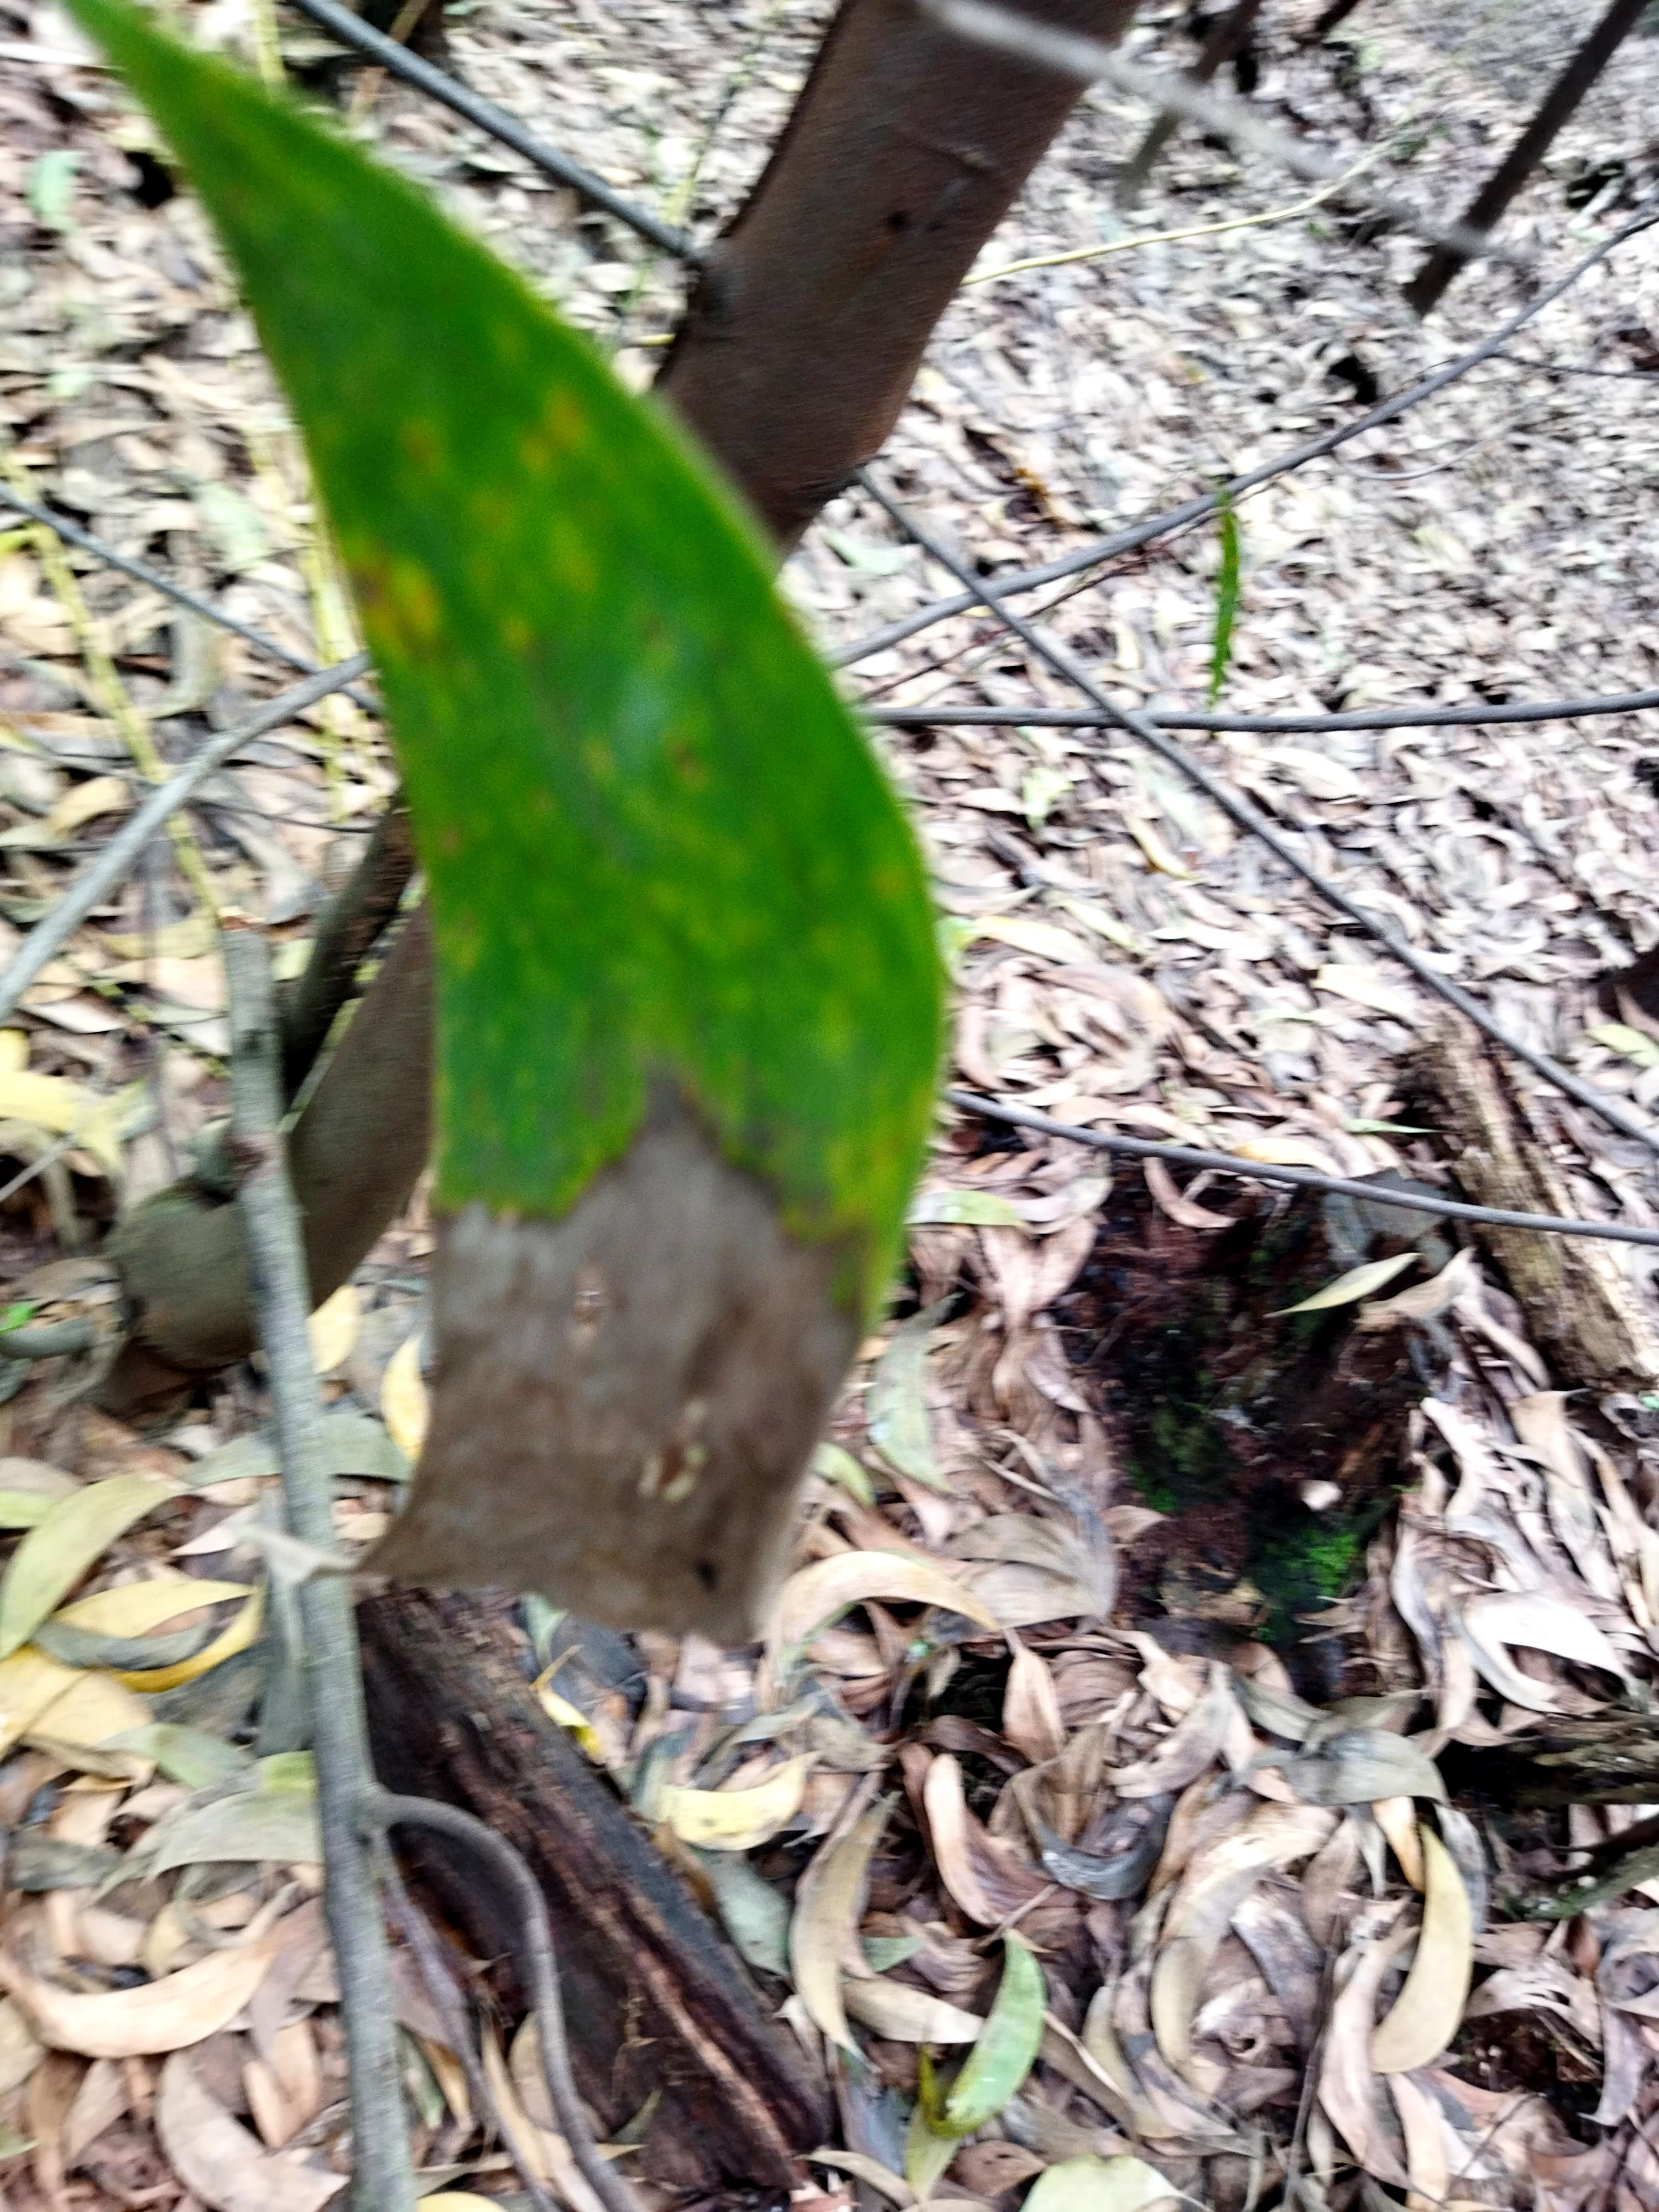Cylindrocladium: (427, 1202, 859, 1730)
Xanthomonas: (216, 145, 965, 1132)
